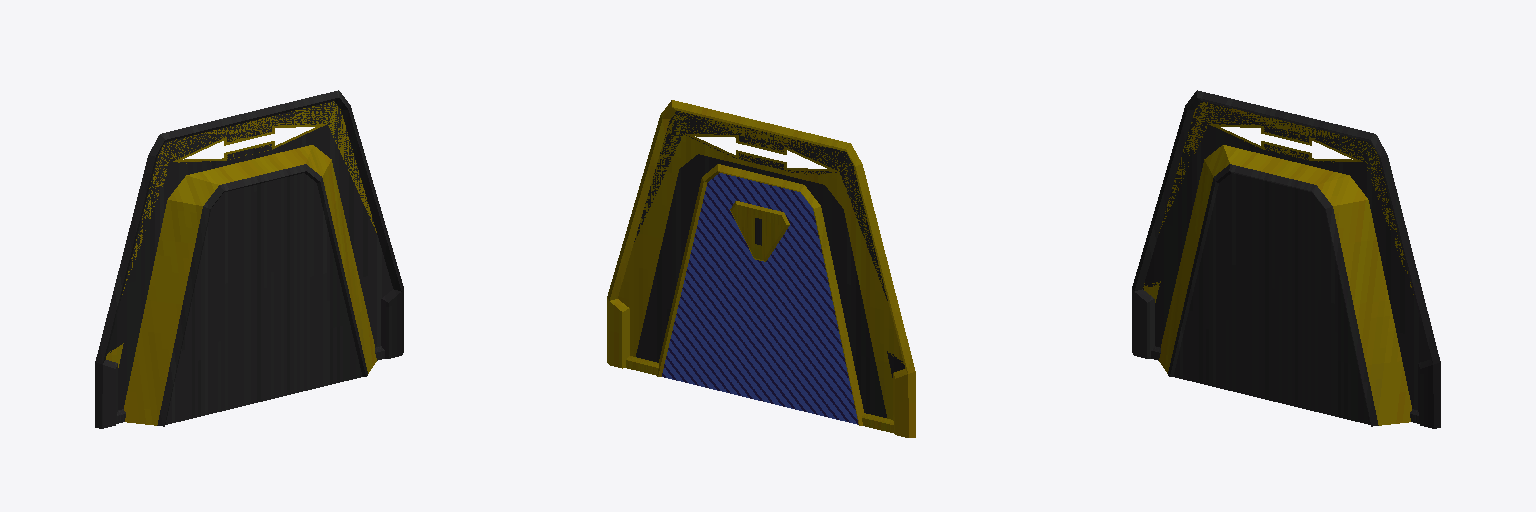
3 renders of one model, left to right at view 1: azimuth 30°, elevation 25°; view 2: azimuth 150°, elevation 25°; view 3: azimuth 330°, elevation 25°, orthographic.
Visible parts, largest first — view 1: WORMHOLE; view 2: WORMHOLE, WORM_SURFACE; view 3: WORMHOLE.
Boxes of the visible parts, box(x1,y1,x2,y2) form: WORMHOLE: box(95, 90, 403, 428); WORMHOLE: box(607, 100, 915, 437); WORM_SURFACE: box(662, 173, 858, 424); WORMHOLE: box(1132, 90, 1440, 428).
Size of the model in its own units: 6.72 by 5.8 by 0.71.
12 materials, 3 textured.